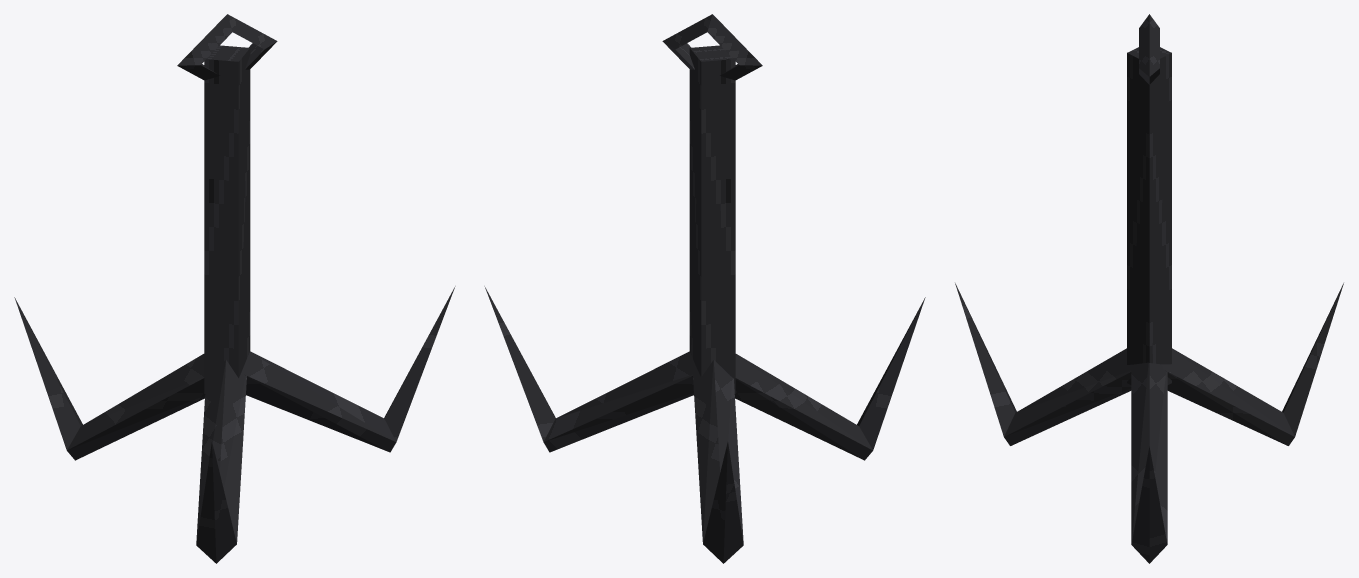
Rendered from gancho_trepa.glb.
3 renders of one model, left to right at view 1: azimuth 30°, elevation 25°; view 2: azimuth 150°, elevation 25°; view 3: azimuth 270°, elevation 25°, orthographic.
Visible parts, largest first — view 1: garfios, vastago, anilla; view 2: garfios, vastago, anilla; view 3: garfios, vastago, anilla.
Boxes of the visible parts, x1,y1,x2,y2 form: garfios: (14, 286, 455, 563); vastago: (204, 45, 250, 393); anilla: (177, 14, 277, 80); garfios: (484, 286, 925, 563); vastago: (689, 45, 735, 393); anilla: (662, 14, 762, 80); garfios: (955, 283, 1343, 563); vastago: (1127, 47, 1171, 384); anilla: (1139, 14, 1159, 84).
Bounding box in the file's own units: 0.3 × 0.4 × 0.3.
1 material, 1 textured.
